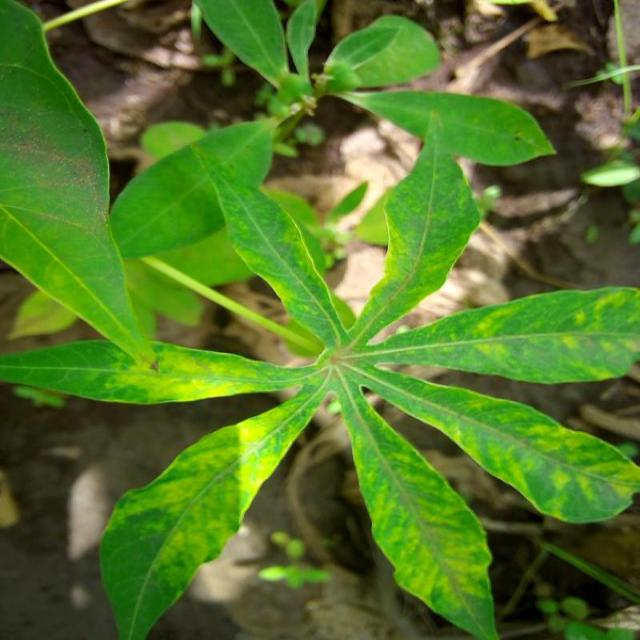Mosaico: (140, 203, 597, 586)
